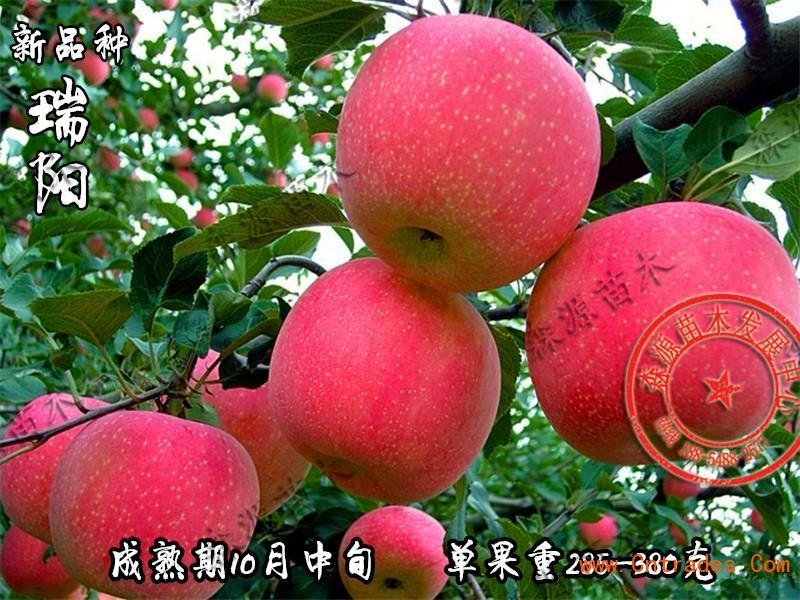apple: (523, 198, 800, 472), (325, 14, 600, 289), (266, 261, 501, 505), (51, 409, 260, 598), (335, 504, 447, 598), (254, 73, 287, 106), (191, 206, 217, 228)
